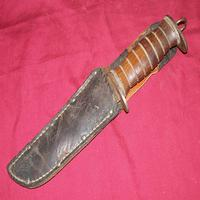knife: (7, 26, 181, 191)
